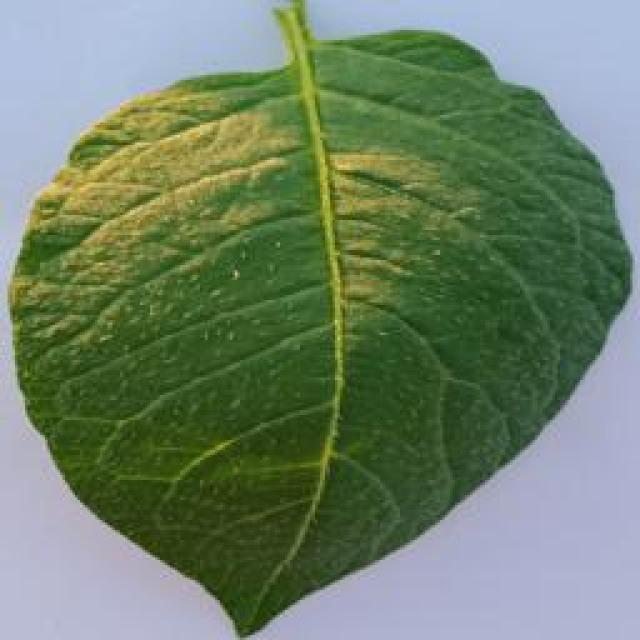Potato_Healthy: (13, 8, 621, 636)
